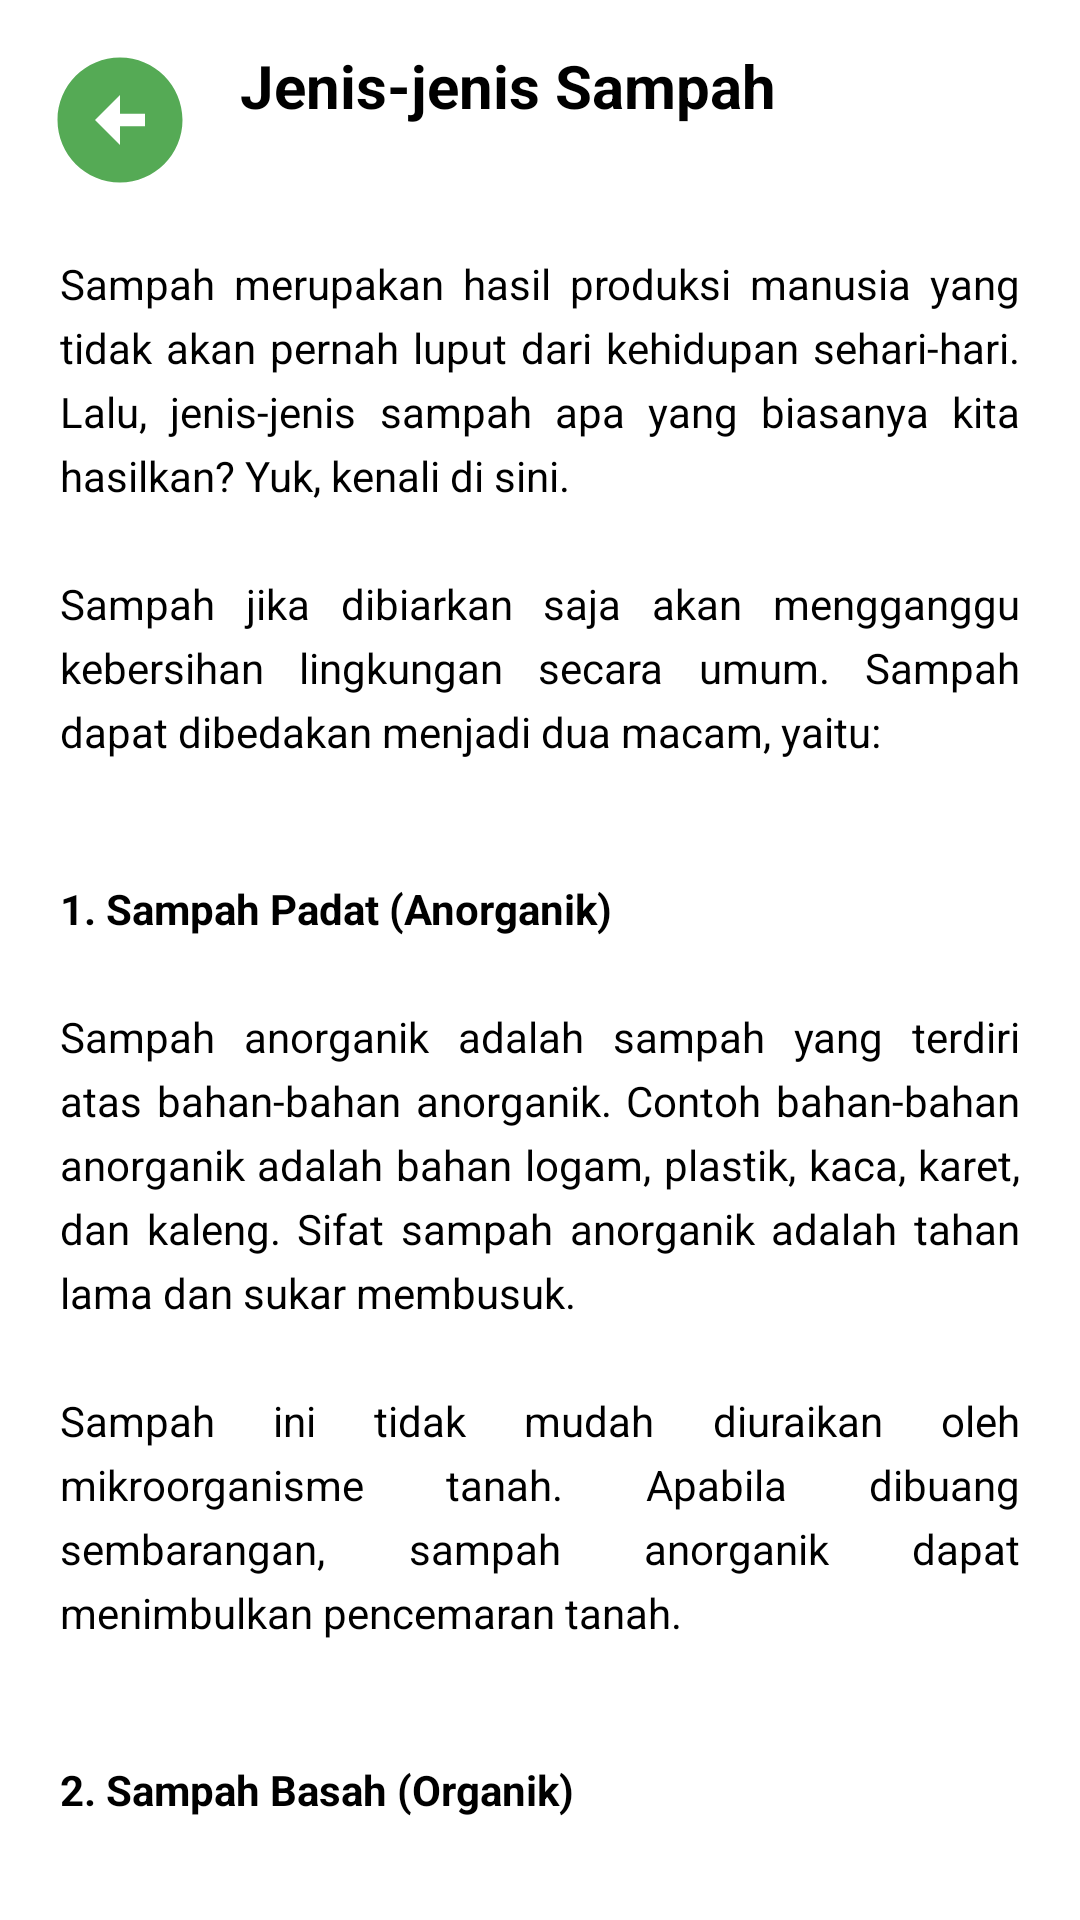

Locate icon controls on the screen. Image size 1080 × 1920, boxes as box(x1, y1, x2, y2).
Navigate to the previous screen: box(57, 57, 183, 183)
